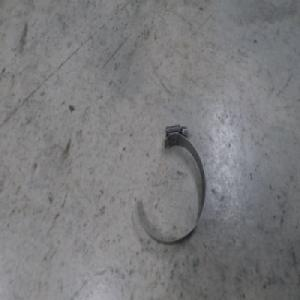AdjustableClamp: (133, 124, 206, 245)
